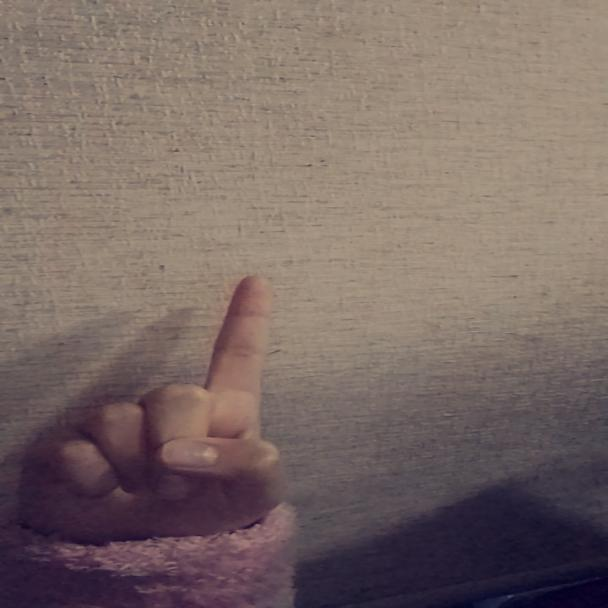one: (17, 262, 358, 582)
